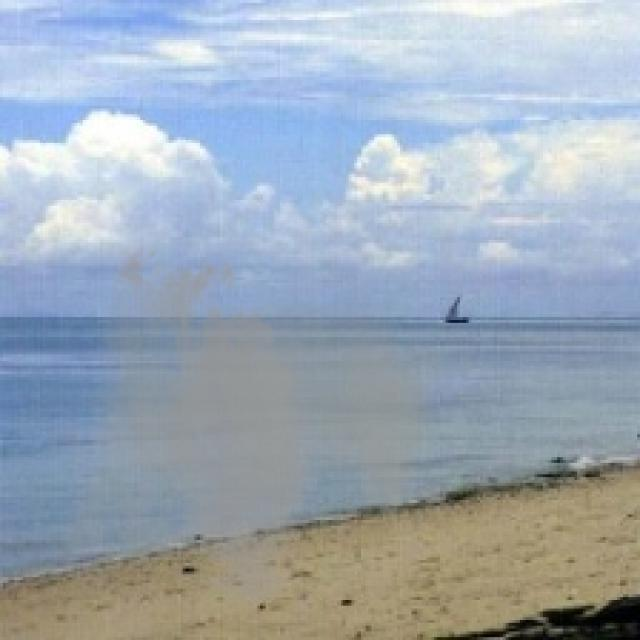Smoke: (66, 234, 440, 623)
